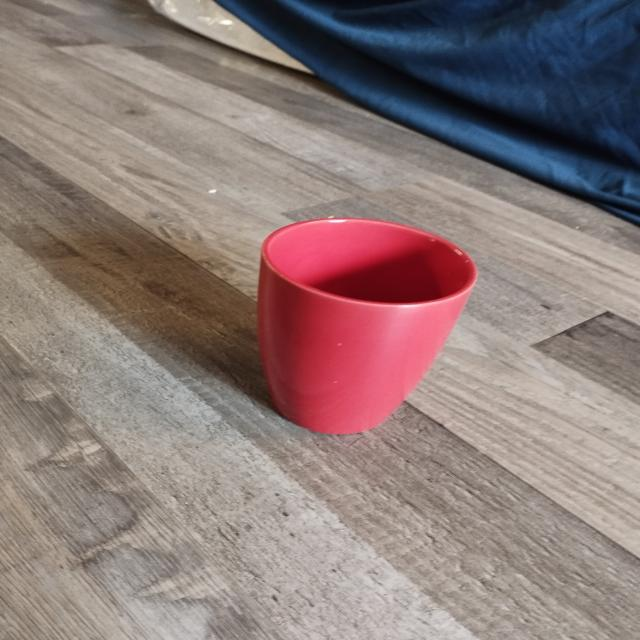Cup: (226, 214, 502, 443)
